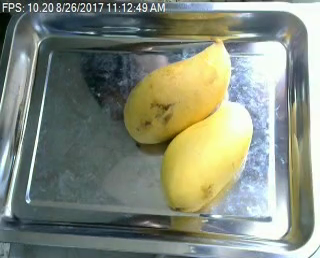Mango: (120, 32, 238, 143), (159, 95, 259, 213)
